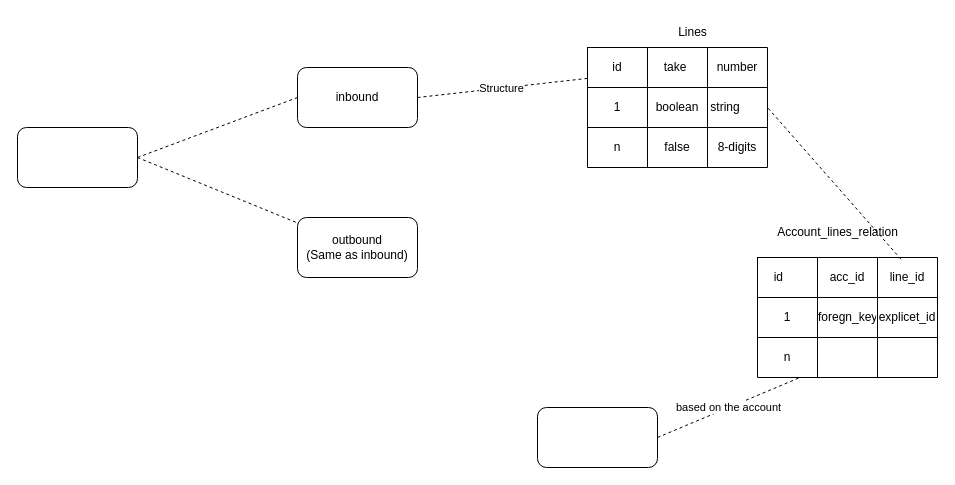
Image size: 955x485. Some labels were removed from this diagram. Each missing label, with the box of its shape:
Account: (536, 406, 658, 468)
Circuit Number: (16, 126, 138, 188)
